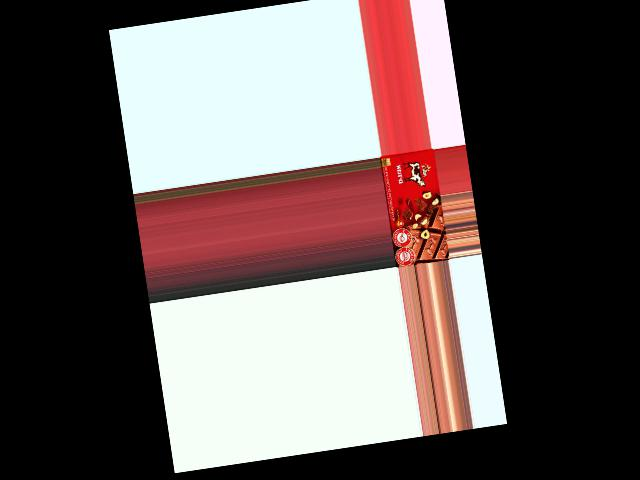chocolate: (381, 148, 449, 266)
